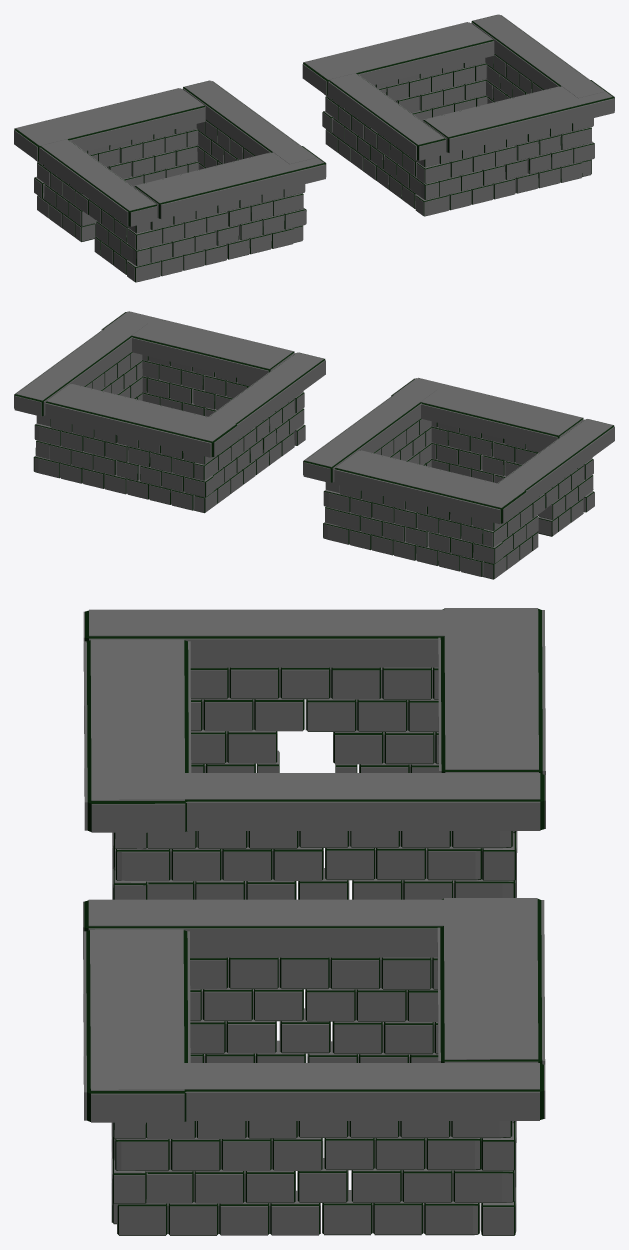
The model's file is Z_Towers.fbx.
3 renders of one model, top to bottom at view 1: azimuth 30°, elevation 25°; view 2: azimuth 150°, elevation 25°; view 3: azimuth 270°, elevation 25°, orthographic. The views are drawn at different scales.
Visible parts, largest first — view 1: CornerWithSlab.001, CornerWithSlab.002; view 2: CornerWithSlab.001, CornerWithSlab.002; view 3: CornerWithSlab.001, CornerWithSlab.002.
Boxes of the visible parts, x1=… form: CornerWithSlab.001: x1=302, y1=14, x2=614, y2=216; CornerWithSlab.002: x1=14, y1=80, x2=326, y2=282; CornerWithSlab.001: x1=14, y1=311, x2=325, y2=513; CornerWithSlab.002: x1=303, y1=377, x2=614, y2=579; CornerWithSlab.001: x1=83, y1=898, x2=545, y2=1235; CornerWithSlab.002: x1=83, y1=608, x2=545, y2=899.
Size of the model in its own units: 66.79 by 11.04 by 27.38.
